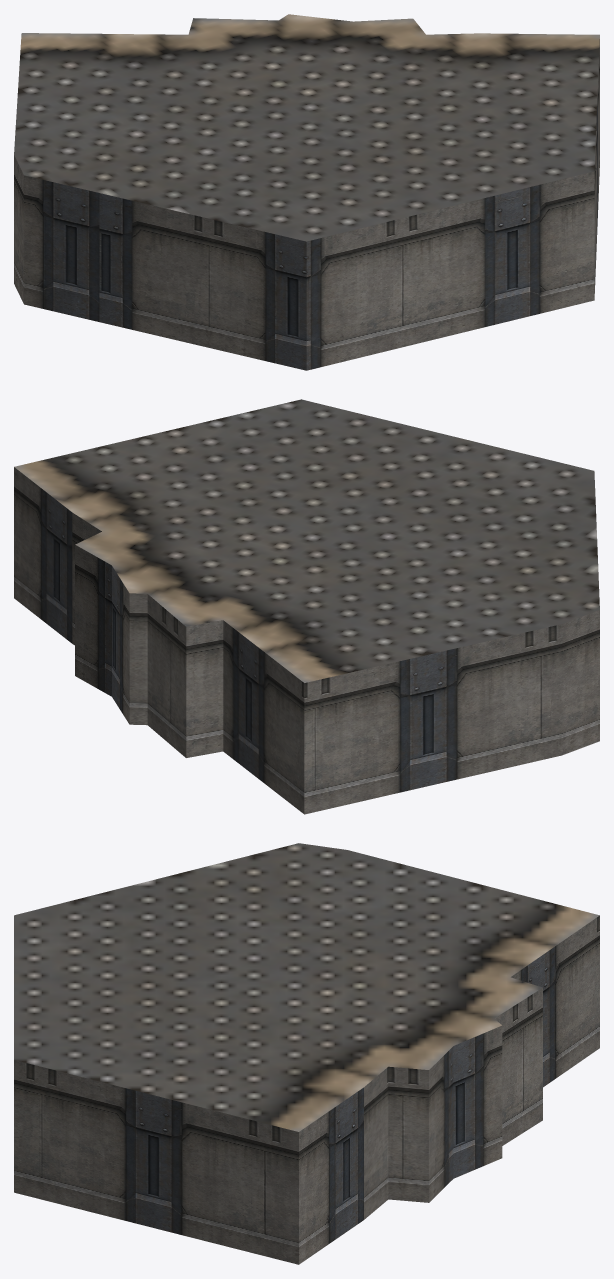
File: building_heavy_a_60.glb
The picture shows the model from 3 angles, top to bottom: view 1: azimuth 30°, elevation 25°; view 2: azimuth 150°, elevation 25°; view 3: azimuth 270°, elevation 25°; orthographic projection. The views are drawn at different scales.
Visible parts, largest first — view 1: buildings/saxarba/building_heavy/building_heavy_a_60; view 2: buildings/saxarba/building_heavy/building_heavy_a_60; view 3: buildings/saxarba/building_heavy/building_heavy_a_60.
Part boxes in pixels (left/top/right/bottom): buildings/saxarba/building_heavy/building_heavy_a_60: left=14, top=14, right=599, bottom=370; buildings/saxarba/building_heavy/building_heavy_a_60: left=14, top=399, right=599, bottom=814; buildings/saxarba/building_heavy/building_heavy_a_60: left=14, top=843, right=599, bottom=1264.
Bounding box in the file's own units: 84 × 18 × 72.
